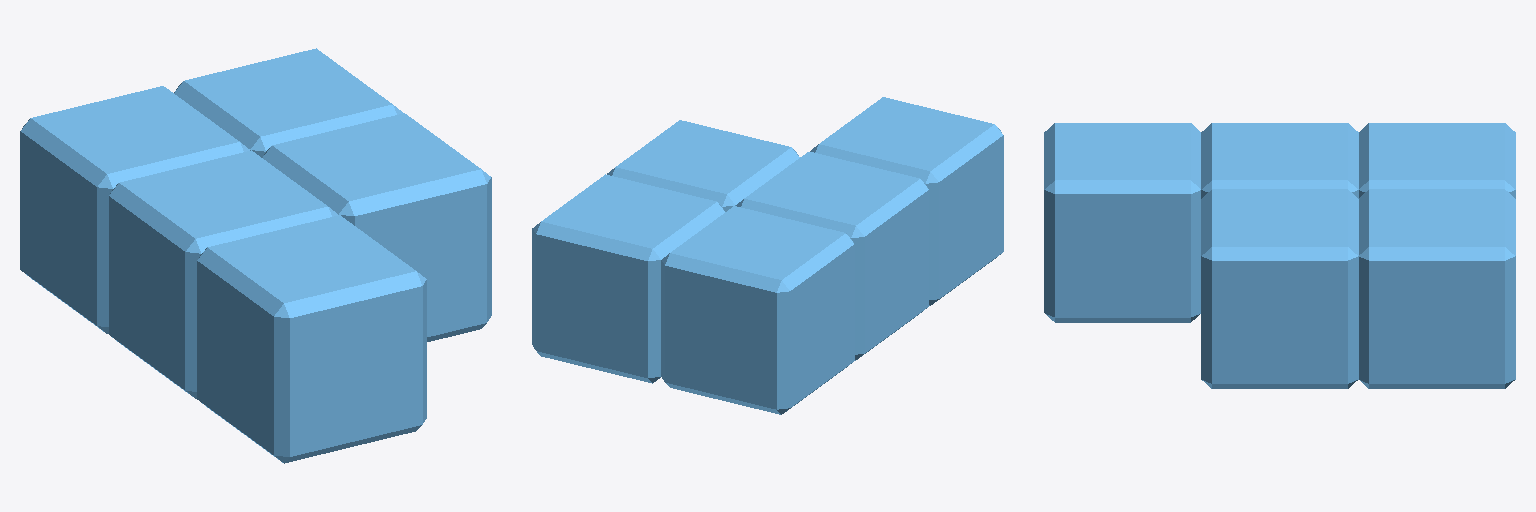
robot.urdf — L1_box.SLDPRT:
<?xml version="1.0" encoding="utf-8"?>
<!-- This URDF was automatically created by SolidWorks to URDF Exporter! Originally created by [author] ([email redacted]) 
     Commit Version: 1.5.1-0-g916b5db  Build Version: 1.5.7152.31018
     For more information, please see http://wiki.ros.org/sw_urdf_exporter -->
<robot
  name="L1_box.SLDPRT">

   <material name="light_gold">
        <color rgba="0.9333333333333333 0.8627450980392157 0.5098039215686274 1"/>
    </material>
    <material name="gray">
        <color rgba="0.7450980392156863 0.7450980392156863 0.7450980392156863 1"/>
    </material>
    <material name="red">
        <color rgba="1 0 0 1"/>
    </material>
    <material name="orange">
        <color rgba="1 0.647058823 0 1"/>
    </material>
     <material name="yellow">
        <color rgba="1 1 0 1"/>
    </material>
    <material name="green">
        <color rgba="0 0.9803921 0.603921   1"/>
    </material>

    <material name="blue">
        <color rgba="0.52941176 0.807843 1   1"/>
    </material>
    <material name="purple">
        <color rgba="0.698 0.2274509 0.933333   1"/>
    </material>



  <link
    name="L1_box.SLDPRT">
    <inertial>
      <origin
        xyz="0.012 0.006 0.0"
        rpy="0 0 0" />
      <mass
        value="0.08505" />
      <inertia
        ixx="0.000005868"
        ixy="0.00001531"
        ixz="0"
        iyy="0.00004338"
        iyz="0"
        izz="0.0000893" />
    </inertial>
    <visual>
      <origin
        xyz="0 0 0"
        rpy="0 0 0" />
      <geometry>
        <mesh filename="meshes/L1_cube3.STL"/>
      </geometry>
      <material name="blue"/>
    </visual>


    <collision>
      <origin
        xyz="0 0 0"
        rpy="0 0 0" />
      <geometry>
       <box size="0.03 0.09 0.03"/>
      </geometry>
    </collision>

    <collision>
      <origin
        xyz="0.03 0.015 0"
        rpy="0 0 0" />
      <geometry>
       <box size="0.03 0.06 0.03"/>
      </geometry>
    </collision>
  </link>
</robot>

--- Render facts (derived) ---
3 views of the same robot in one strip: view 1: azimuth 30°, elevation 25°; view 2: azimuth 150°, elevation 25°; view 3: azimuth 270°, elevation 25° (orthographic).
Model L1_box.SLDPRT with 1 links and 0 joints (none), rooted at L1_box.SLDPRT, posed all joints at 0.
Links seen in each view (by area): view 1: L1_box.SLDPRT; view 2: L1_box.SLDPRT; view 3: L1_box.SLDPRT.
Boxes of the visible links, x1,y1,x2,y2 form: L1_box.SLDPRT: [20, 48, 491, 463]; L1_box.SLDPRT: [532, 97, 1003, 414]; L1_box.SLDPRT: [1044, 123, 1515, 388].
Size in the robot's own frame: 0.06 by 0.09 by 0.03 metres.
Meshes: 1 distinct files referenced, 1 mesh visuals loaded (1 binary STL).